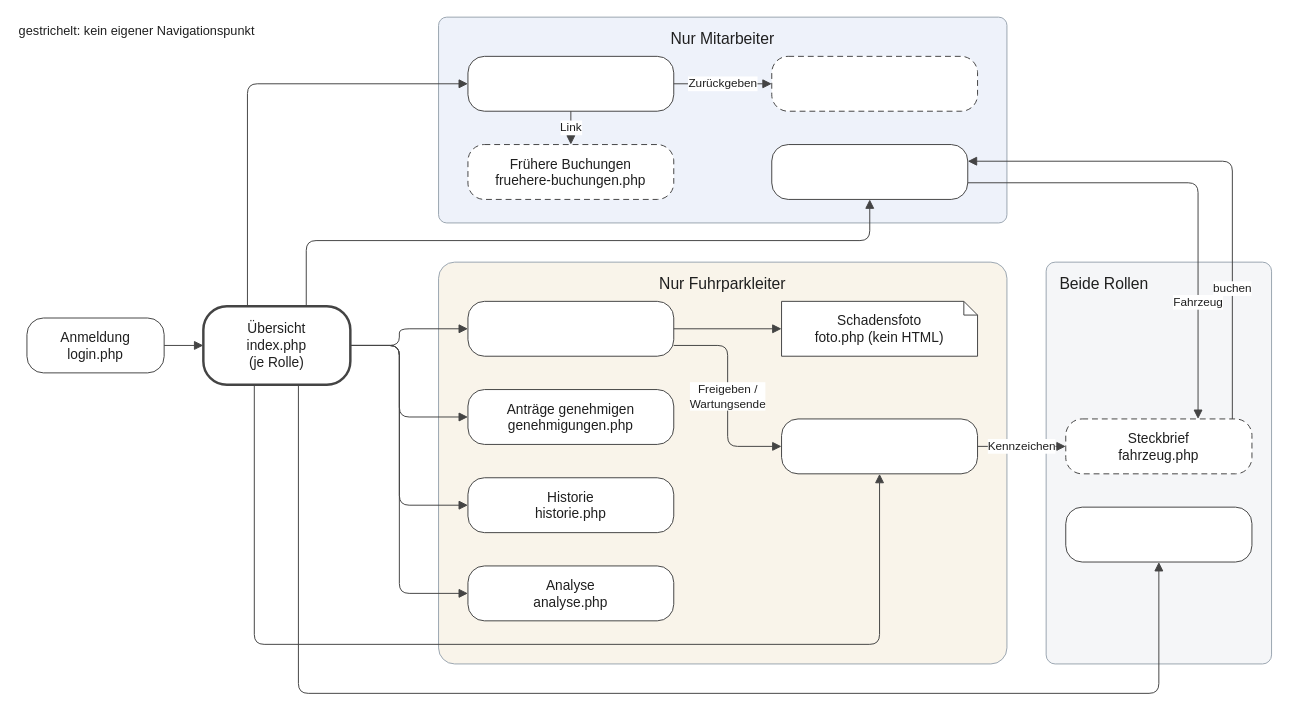
This 1289x719 diagram has some shape labels left out. Here are the shapes that lost their labels. From the top down, the centre of each, then its label:
At pixel 570 83: "Meine Buchungen meine-buchungen.php".
At pixel 874 83: "Fahrzeug zurückgeben rueckgabe.php".
At pixel 869 171: "Fahrzeug buchen buchen.php".
At pixel 570 328: "Schäden schaeden.php".
At pixel 879 446: "Fahrzeuge fahrzeuge.php".
At pixel 1158 534: "Buchungskalender kalender.php".
